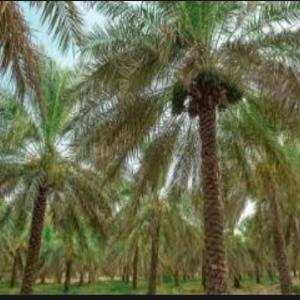palm tree: (67, 0, 299, 294), (0, 58, 114, 292)
